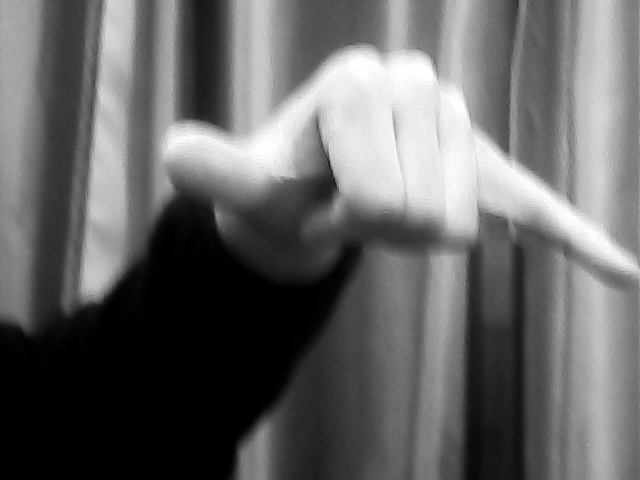aloha: (167, 40, 640, 294)
